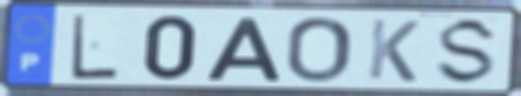0: (140, 14, 200, 82)
A: (202, 15, 284, 82)
K: (364, 17, 422, 84)
L: (69, 12, 120, 82)
O: (284, 15, 354, 85)
S: (431, 16, 503, 88)
